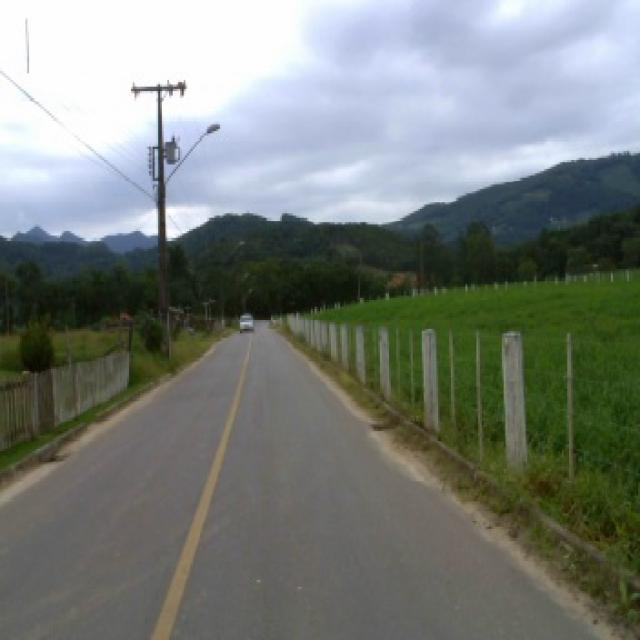Poth-hole: (367, 411, 400, 429), (38, 449, 64, 460)
